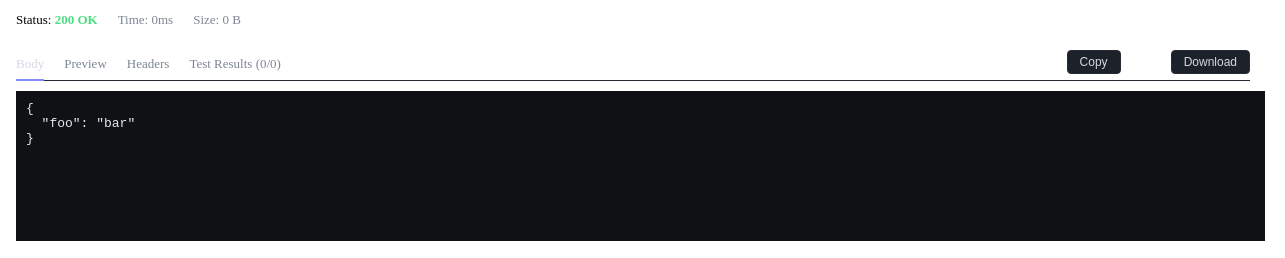
it: ResponseViewer Gap Tests › should handle clicking Body tab when not active
Switch to headers
Click the text "Headers".
click(148, 64)  # box [127, 56, 169, 71]
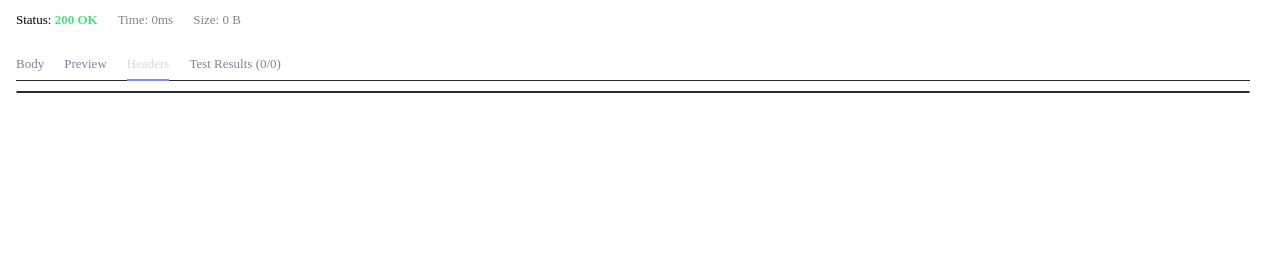
Switch back to Body
Click the text "Body".
click(30, 64)  # box [16, 56, 44, 71]
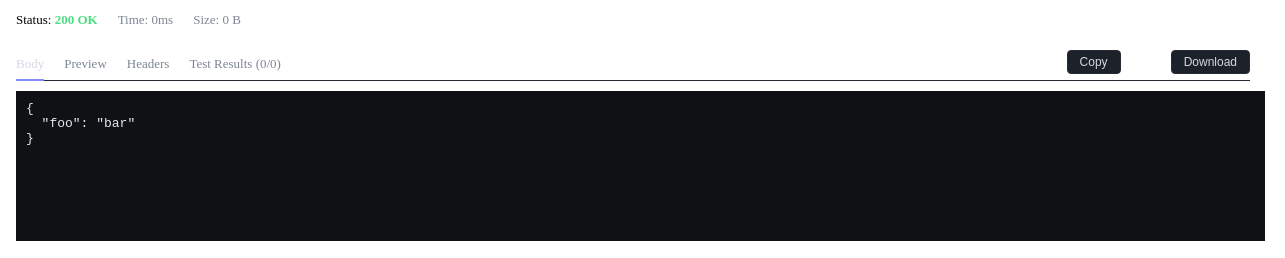
Result: the text box is shown at [16, 91, 1265, 241]
